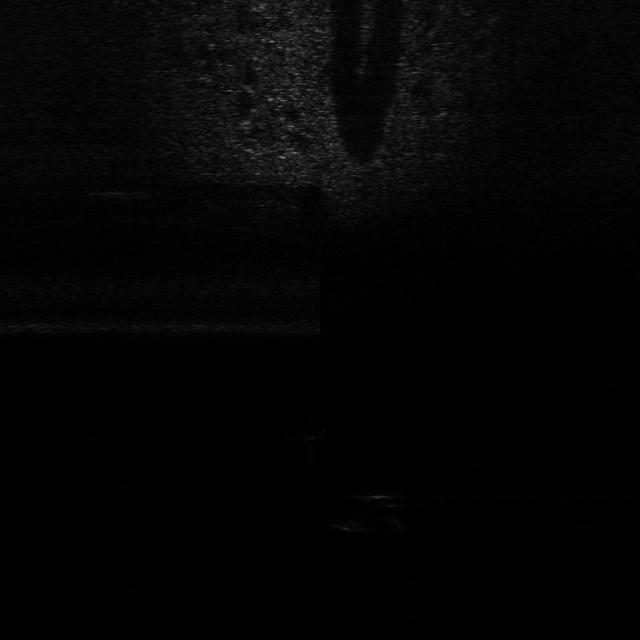ball: (294, 420, 328, 442)
tyre: (324, 481, 410, 536)
